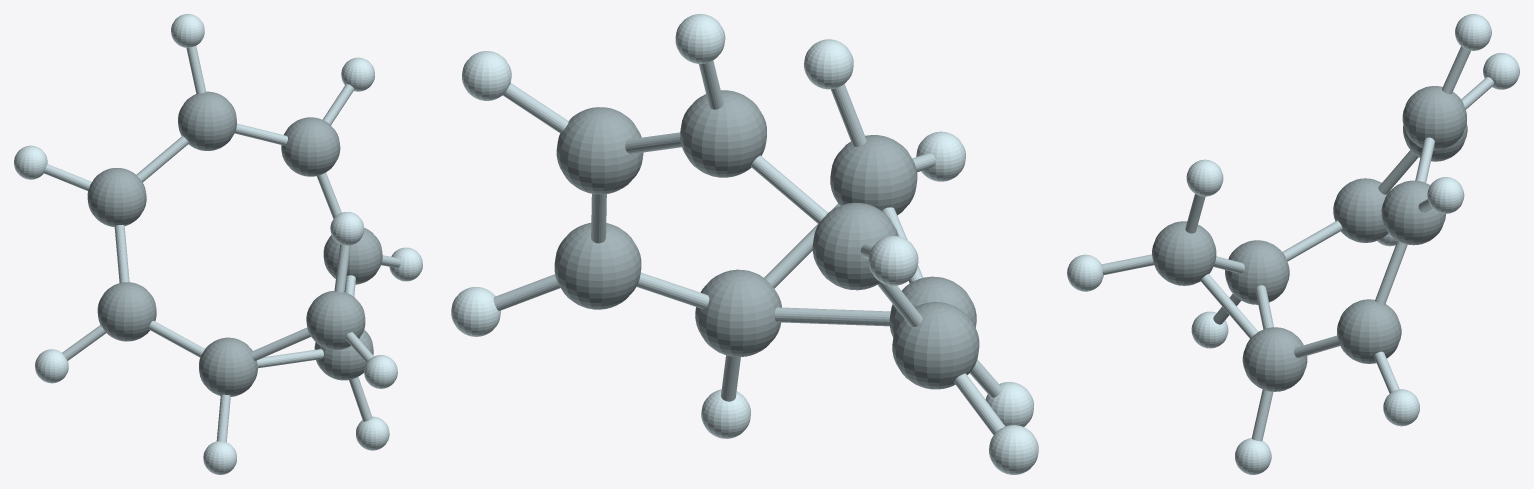
File: irc_step_031.glb
3 views of the same model, side by side, from view 1: azimuth 30°, elevation 25°; view 2: azimuth 150°, elevation 25°; view 3: azimuth 270°, elevation 25° (orthographic). The views are drawn at different scales.
Visible parts, largest first — view 1: Renderer Node; view 2: Renderer Node; view 3: Renderer Node.
Part boxes in pixels (x1,y1,x2,y2): Renderer Node: (14, 14, 422, 474); Renderer Node: (451, 14, 1038, 474); Renderer Node: (1067, 14, 1519, 474).
Size of the model in its own units: 5.28 by 4.93 by 4.9.
